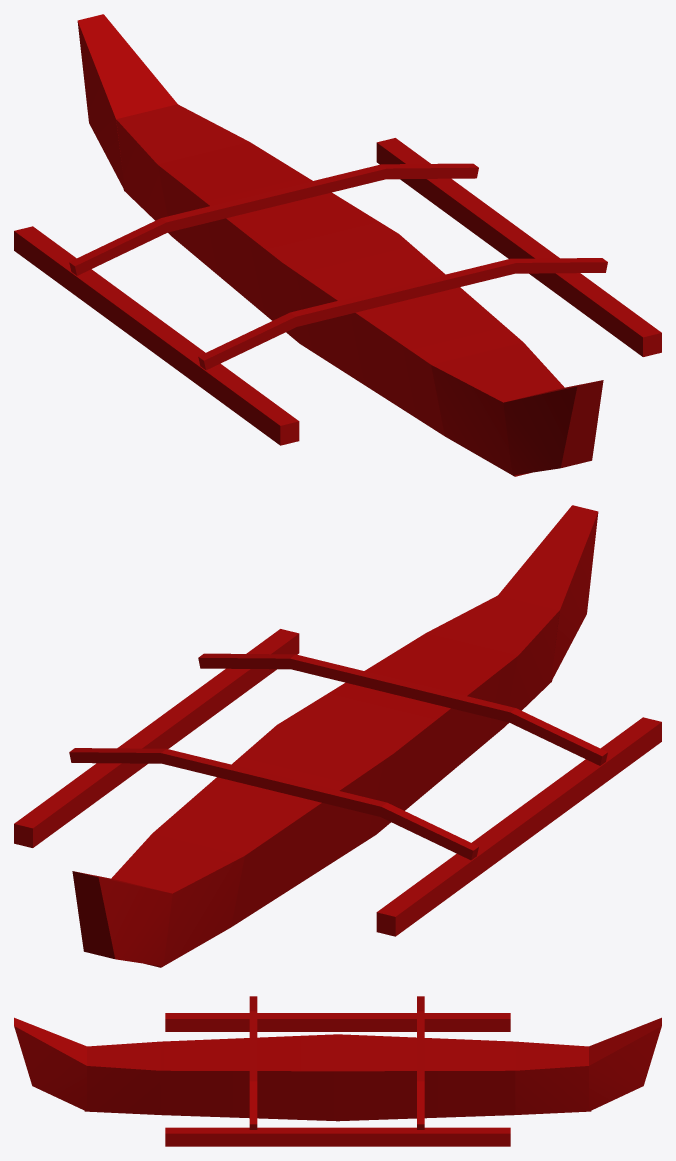
File: SM_Veh_Outrigger_Canoe_01_Collision.glb
3 renders of one model, top to bottom at view 1: azimuth 30°, elevation 25°; view 2: azimuth 150°, elevation 25°; view 3: azimuth 270°, elevation 25°, orthographic. The views are drawn at different scales.
Visible parts, largest first — view 1: SM_Veh_Outrigger_Canoe_01_Collision; view 2: SM_Veh_Outrigger_Canoe_01_Collision; view 3: SM_Veh_Outrigger_Canoe_01_Collision.
Part boxes in pixels (x1,y1,x2,y2): SM_Veh_Outrigger_Canoe_01_Collision: (14, 14, 661, 476); SM_Veh_Outrigger_Canoe_01_Collision: (14, 505, 661, 967); SM_Veh_Outrigger_Canoe_01_Collision: (14, 996, 661, 1146).
Size of the model in its own units: 3.16 by 0.9995 by 6.78.
